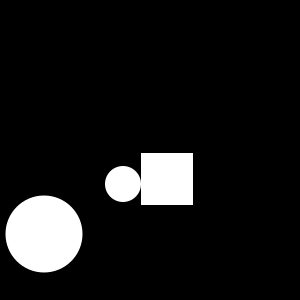circle: (141, 153, 193, 205)
rectangle: (6, 196, 82, 272), (105, 166, 141, 202)
